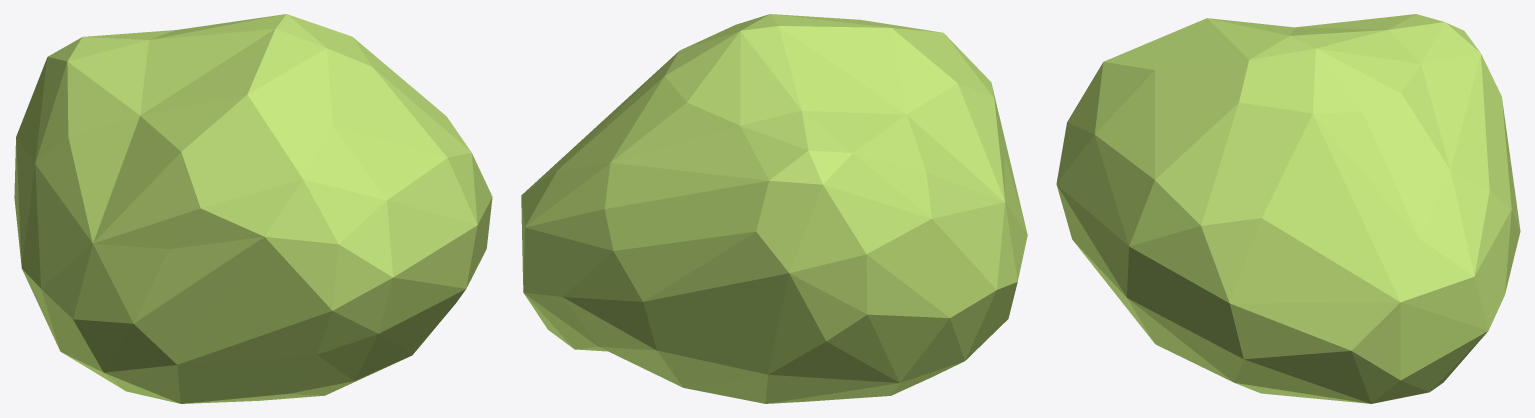
The model's file is Bush_a_l_04.fbx.
The picture shows the model from 3 angles, left to right: view 1: azimuth 30°, elevation 25°; view 2: azimuth 150°, elevation 25°; view 3: azimuth 270°, elevation 25°; orthographic projection. The views are drawn at different scales.
Parts seen in each view (by area): view 1: Bush_a_l_04; view 2: Bush_a_l_04; view 3: Bush_a_l_04.
Part boxes in pixels (box(x1,y1,x2,y2)): Bush_a_l_04: box(14, 14, 492, 403); Bush_a_l_04: box(521, 14, 1027, 403); Bush_a_l_04: box(1056, 14, 1520, 403).
Bounding box in the file's own units: 343 × 256 × 326.
